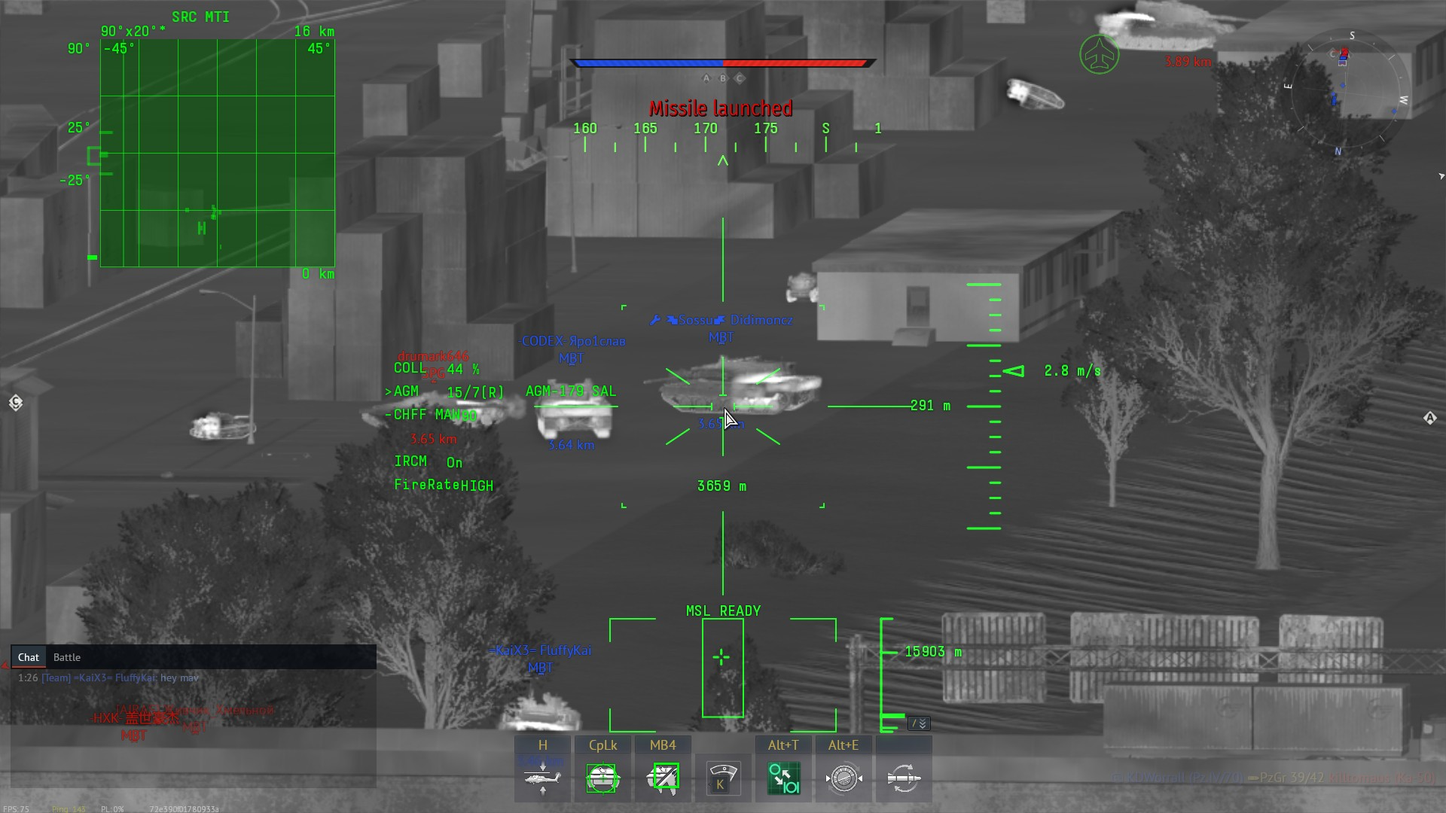leopard2: (642, 356, 822, 416), (534, 376, 613, 441)
